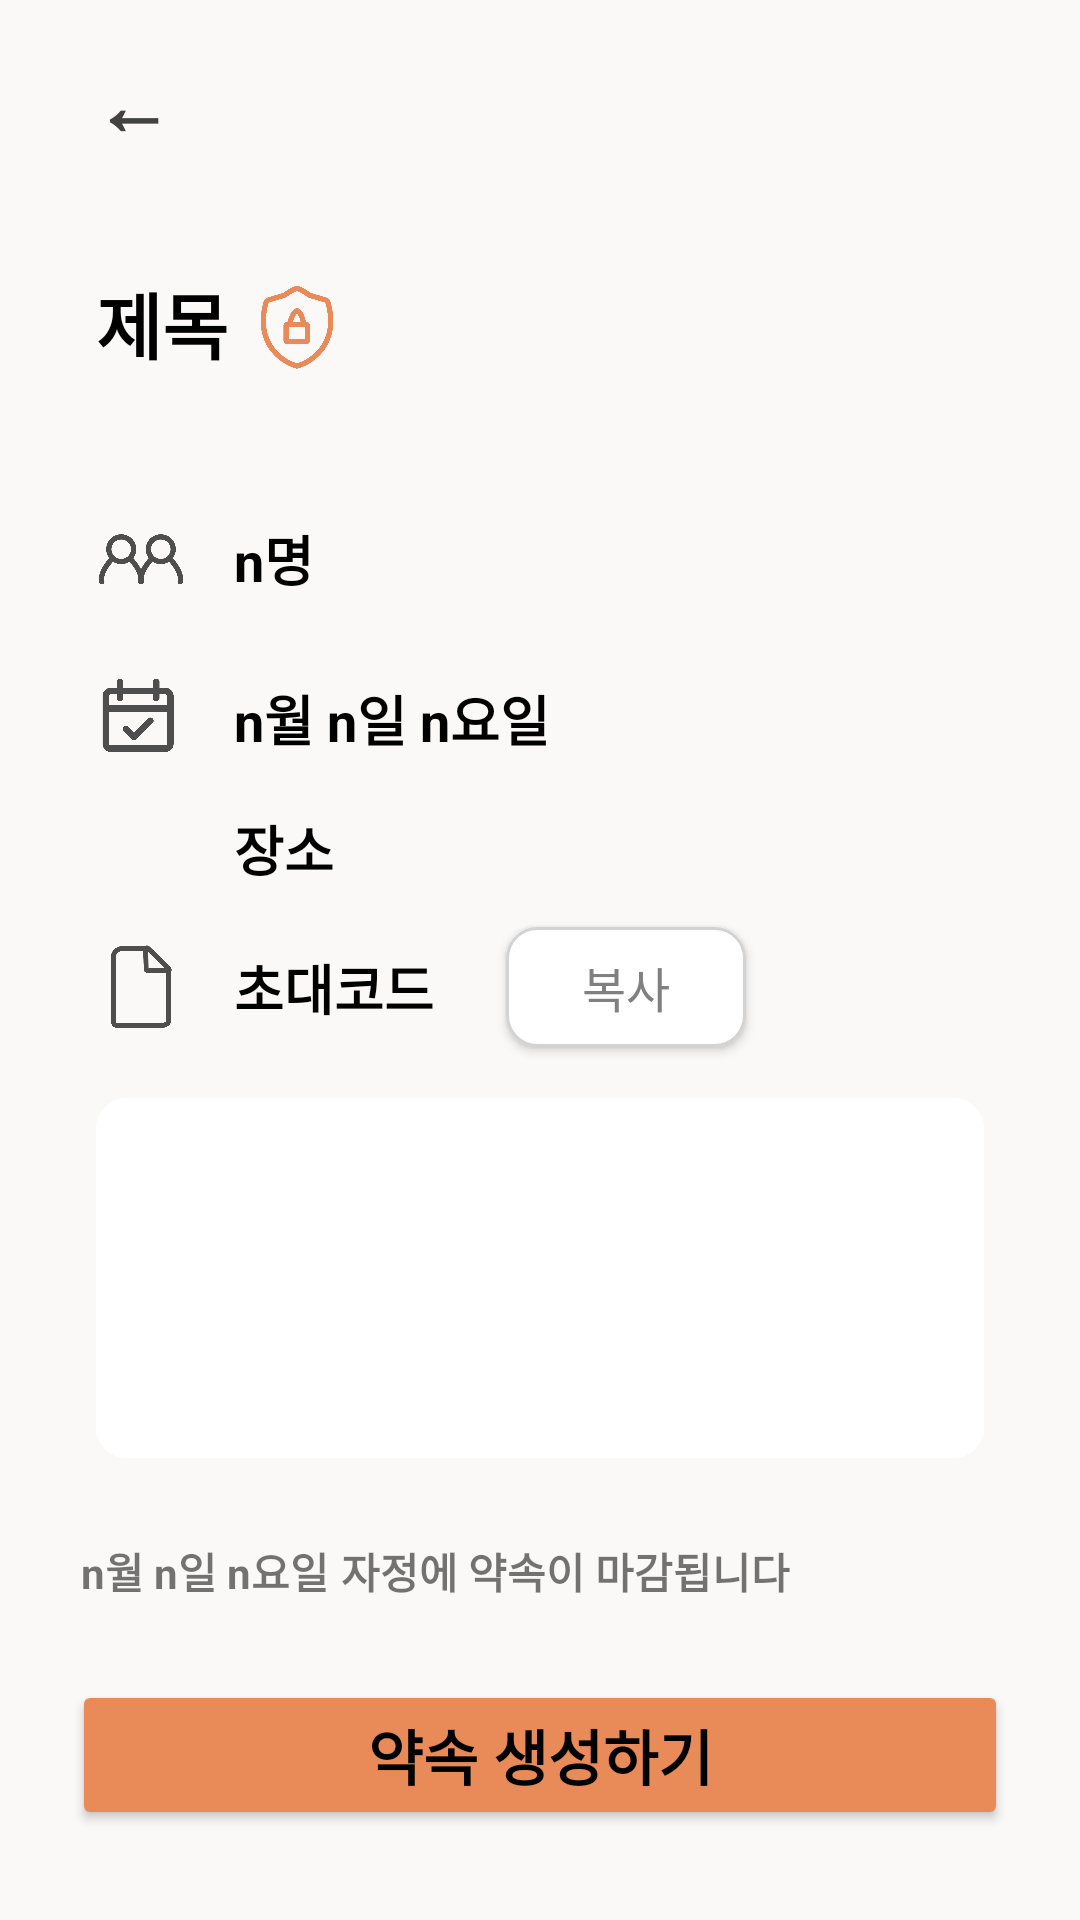

Icon bounding boxes for this 1080×1920 phone screenshot, format (x1, y1, x2, y2):
date: (103, 679, 174, 752)
lock: (261, 286, 333, 369)
people: (99, 534, 183, 584)
